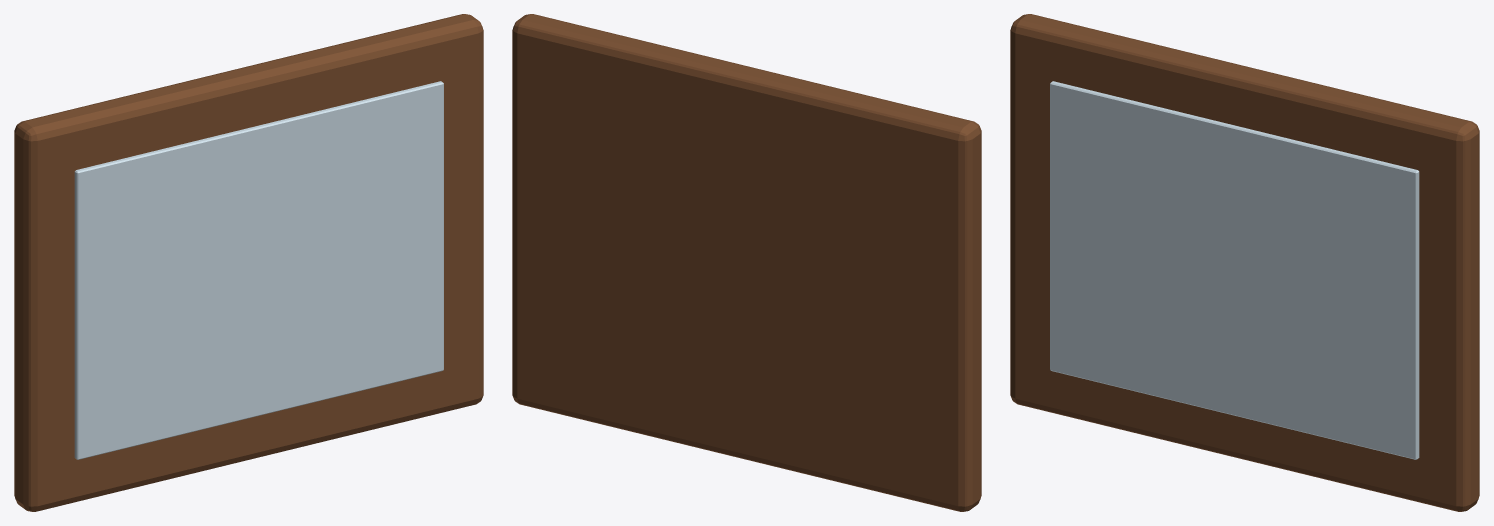
File: keepsake_photo_frame.glb
The picture shows the model from 3 angles, left to right: view 1: azimuth 30°, elevation 25°; view 2: azimuth 150°, elevation 25°; view 3: azimuth 330°, elevation 25°; orthographic projection.
Parts seen in each view (by area): view 1: photo, frame; view 2: frame; view 3: photo, frame.
Boxes of the visible parts, box(x1,y1,x2,y2) form: photo: box(74, 81, 443, 459); frame: box(14, 14, 483, 511); frame: box(512, 14, 981, 511); photo: box(1050, 81, 1419, 459); frame: box(1010, 14, 1479, 511).
Bounding box in the file's own units: 0.5 × 0.4 × 0.04.
